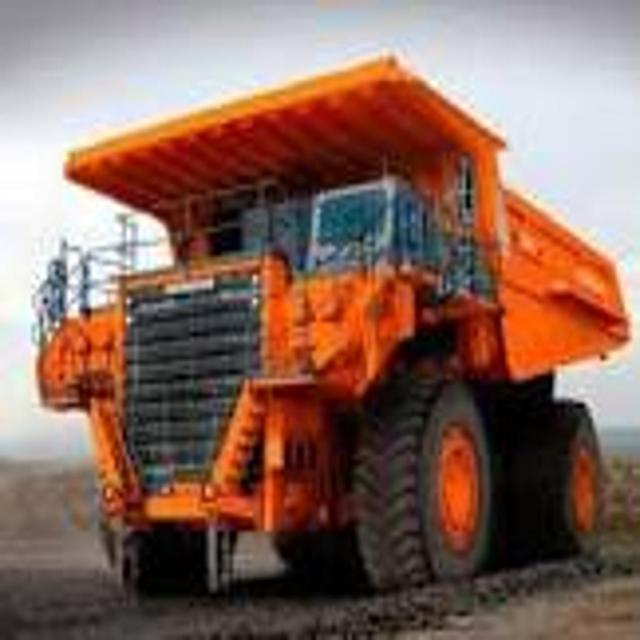dump_truck: (31, 45, 633, 601)
